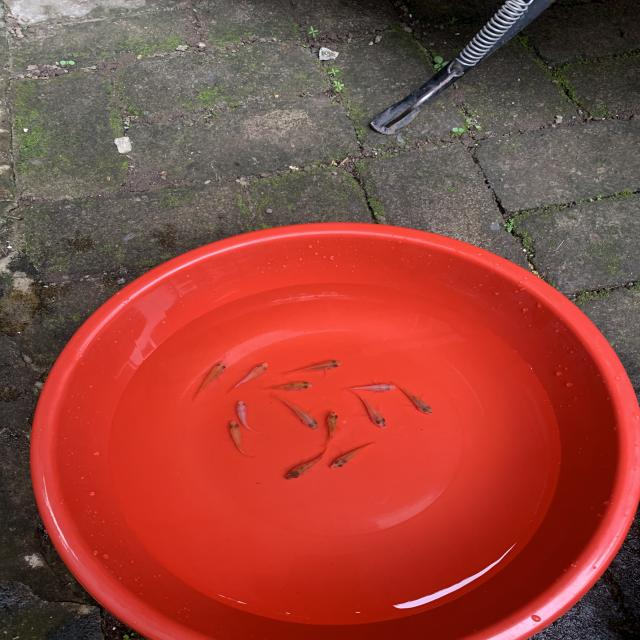nila: (181, 354, 232, 401), (326, 436, 384, 475), (222, 356, 275, 398), (388, 377, 437, 420), (280, 443, 335, 480), (345, 387, 392, 430), (272, 393, 322, 432), (337, 377, 400, 398), (284, 356, 343, 378), (226, 415, 254, 460), (316, 408, 344, 448), (260, 377, 319, 392), (233, 396, 258, 431)
